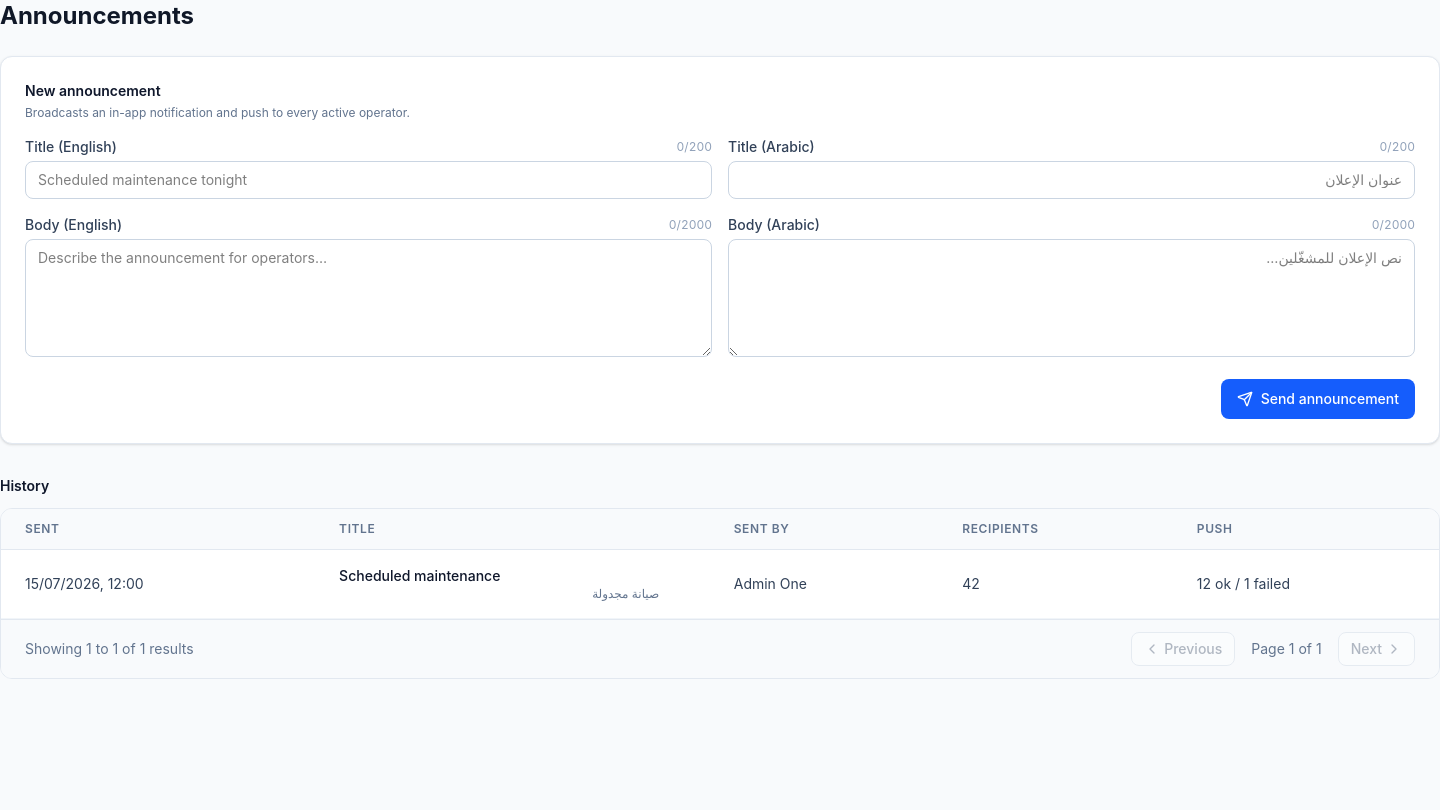
Scenario: AnnouncementsPage › sends a valid announcement: POSTs the 4 fields and toasts the recipient count
The image size is (1440, 810).
Check: the text "Scheduled maintenance" is shown, box [339,567,500,584]
Type "Hello" into the field labelled "Title (English)".
click(368, 180); type("Hello")  # box [25,161,712,199]
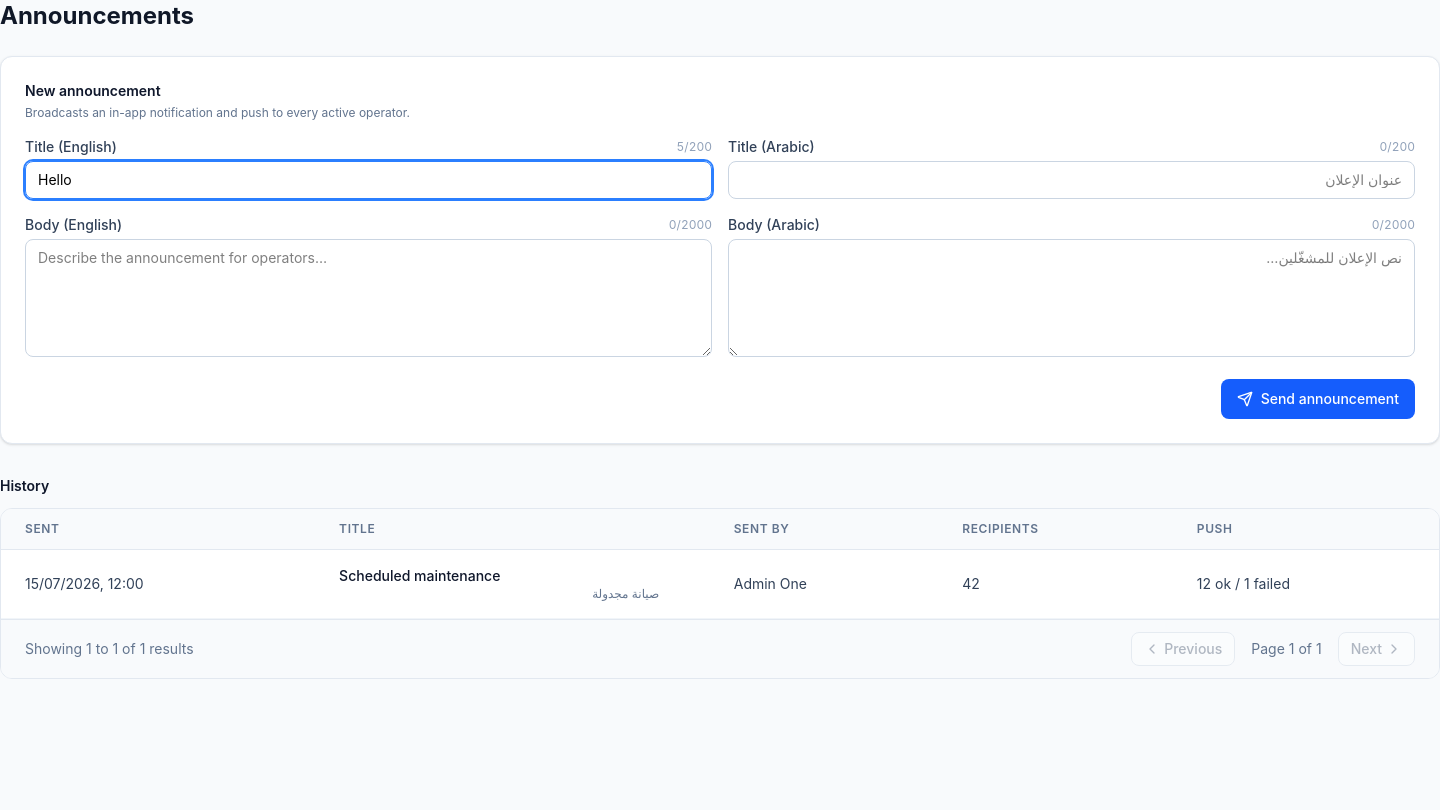
Type "مرحبا" into the field labelled "Title (Arabic)".
click(1072, 180); type("مرحبا")  # box [728,161,1415,199]
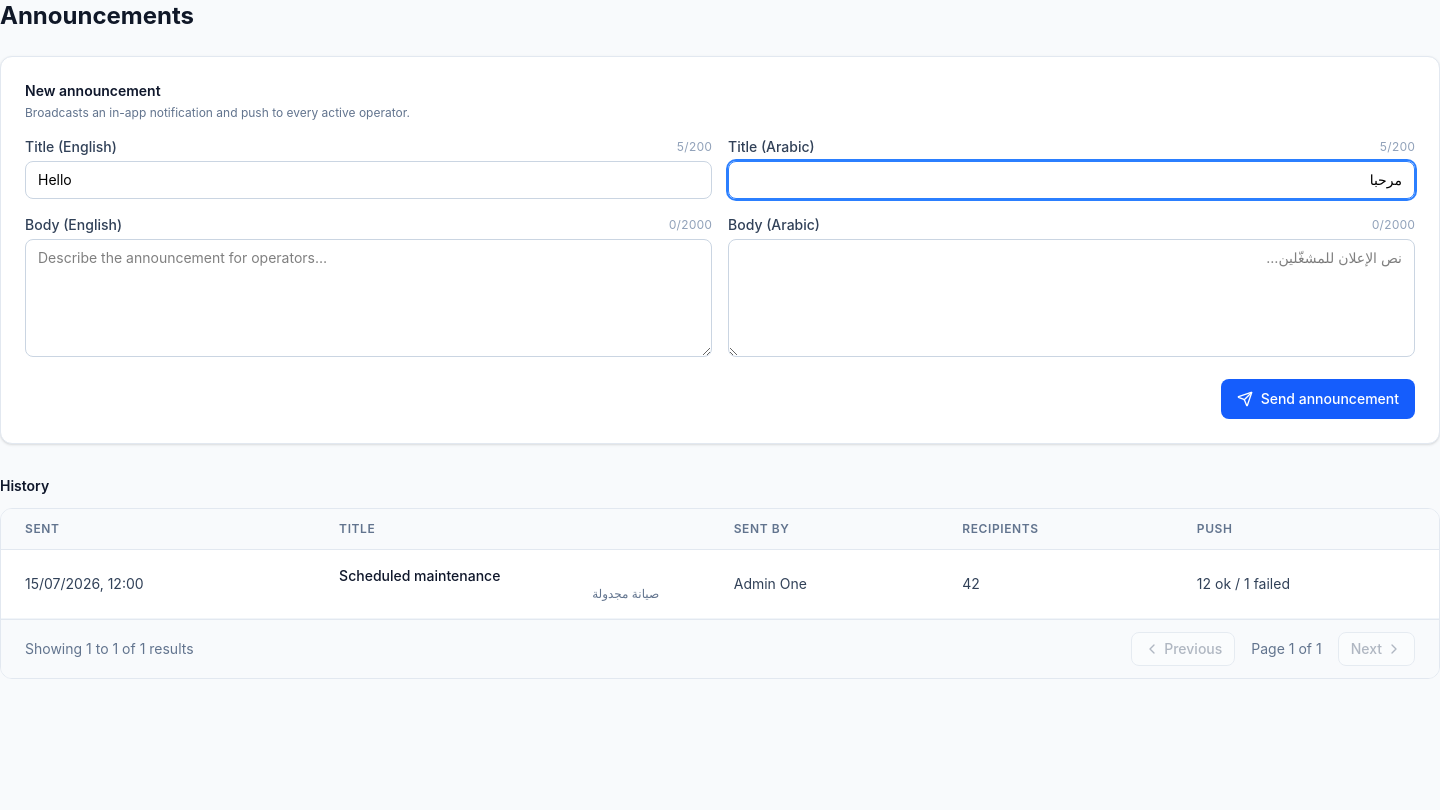
Type "Body text" into the text box labelled "Body (English)".
click(368, 298); type("Body text")  # box [25,239,712,357]
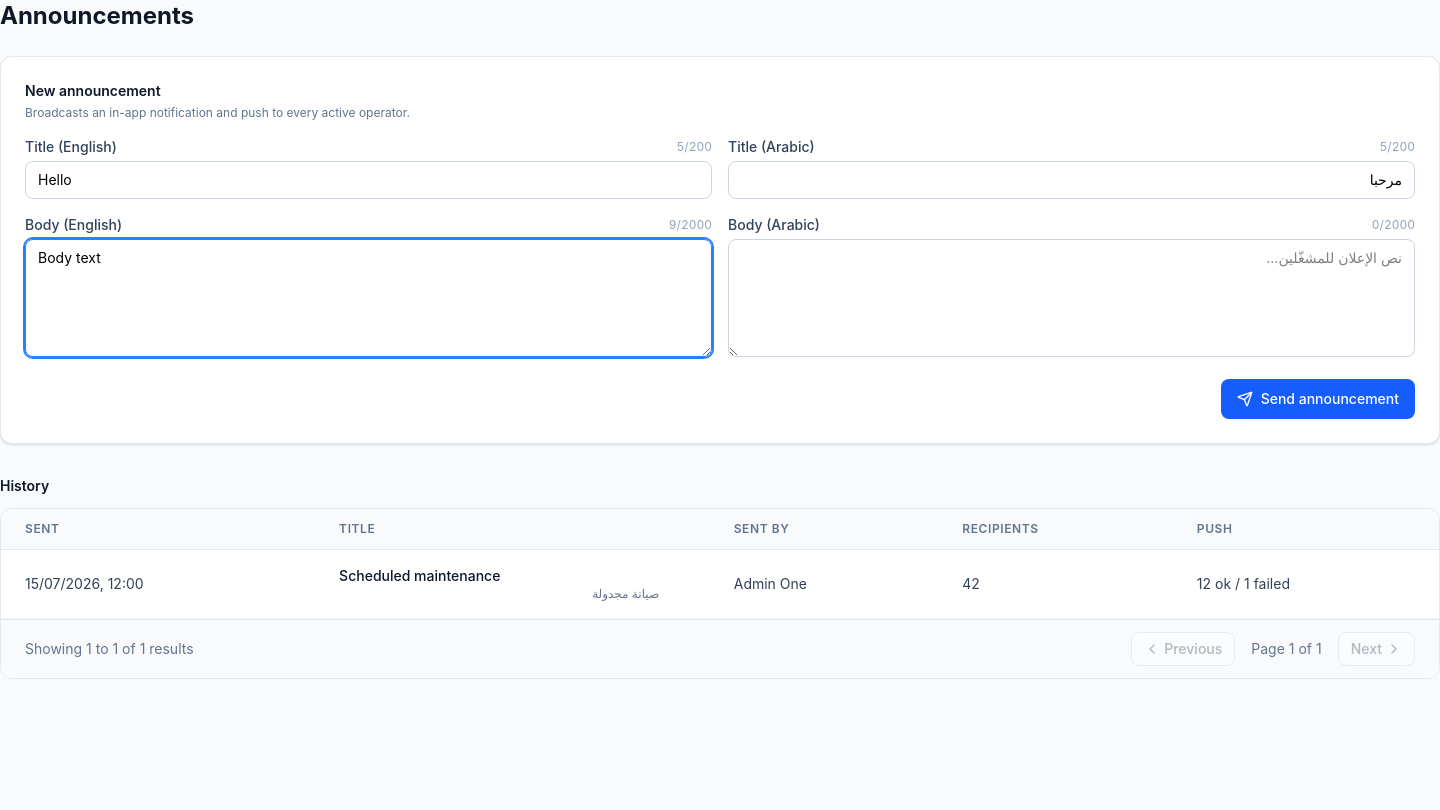
Type "نص الإعلان" into the text box labelled "Body (Arabic)".
click(1072, 298); type("نص الإعلان")  # box [728,239,1415,357]
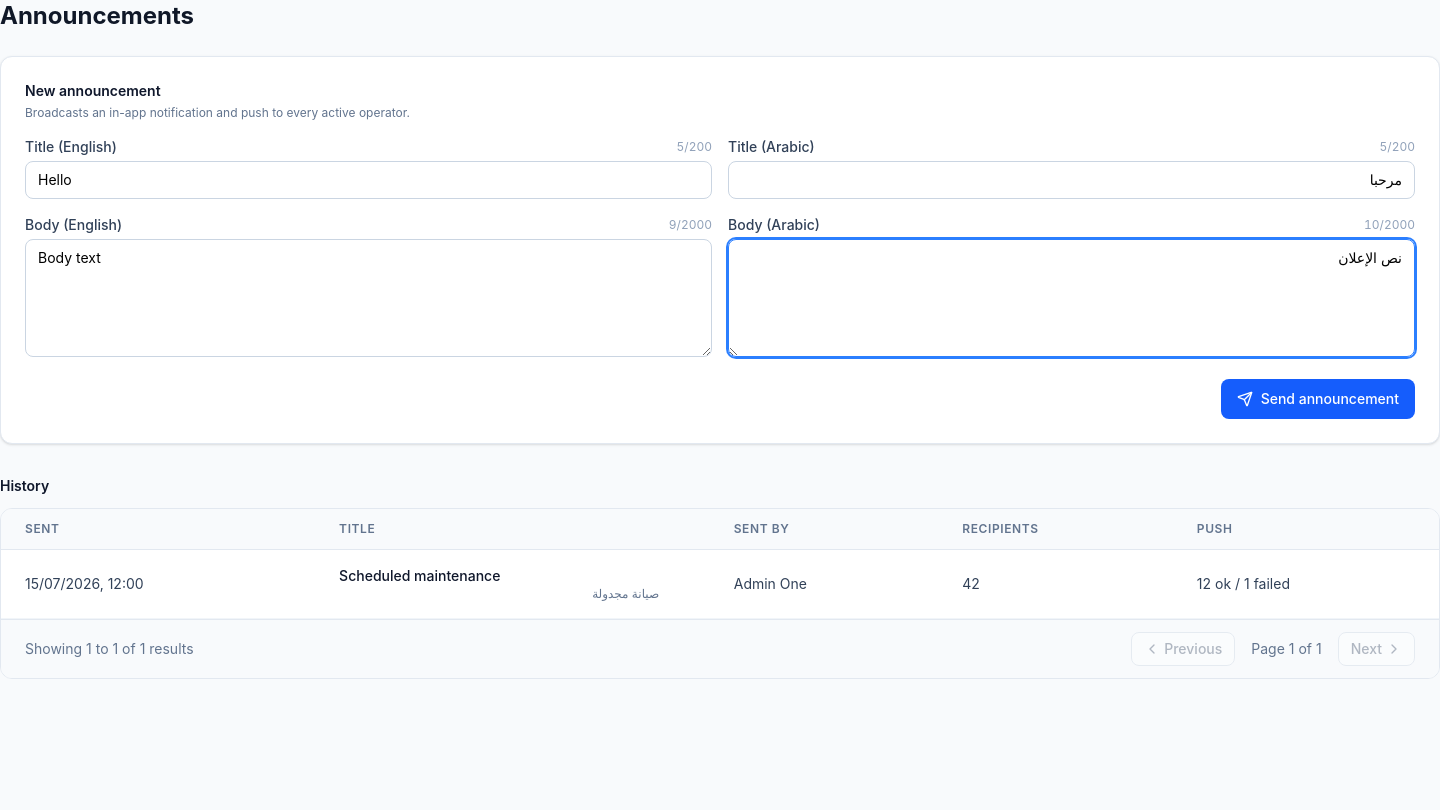
Click the button "Send announcement".
click(1318, 399)  # box [1221,379,1415,419]
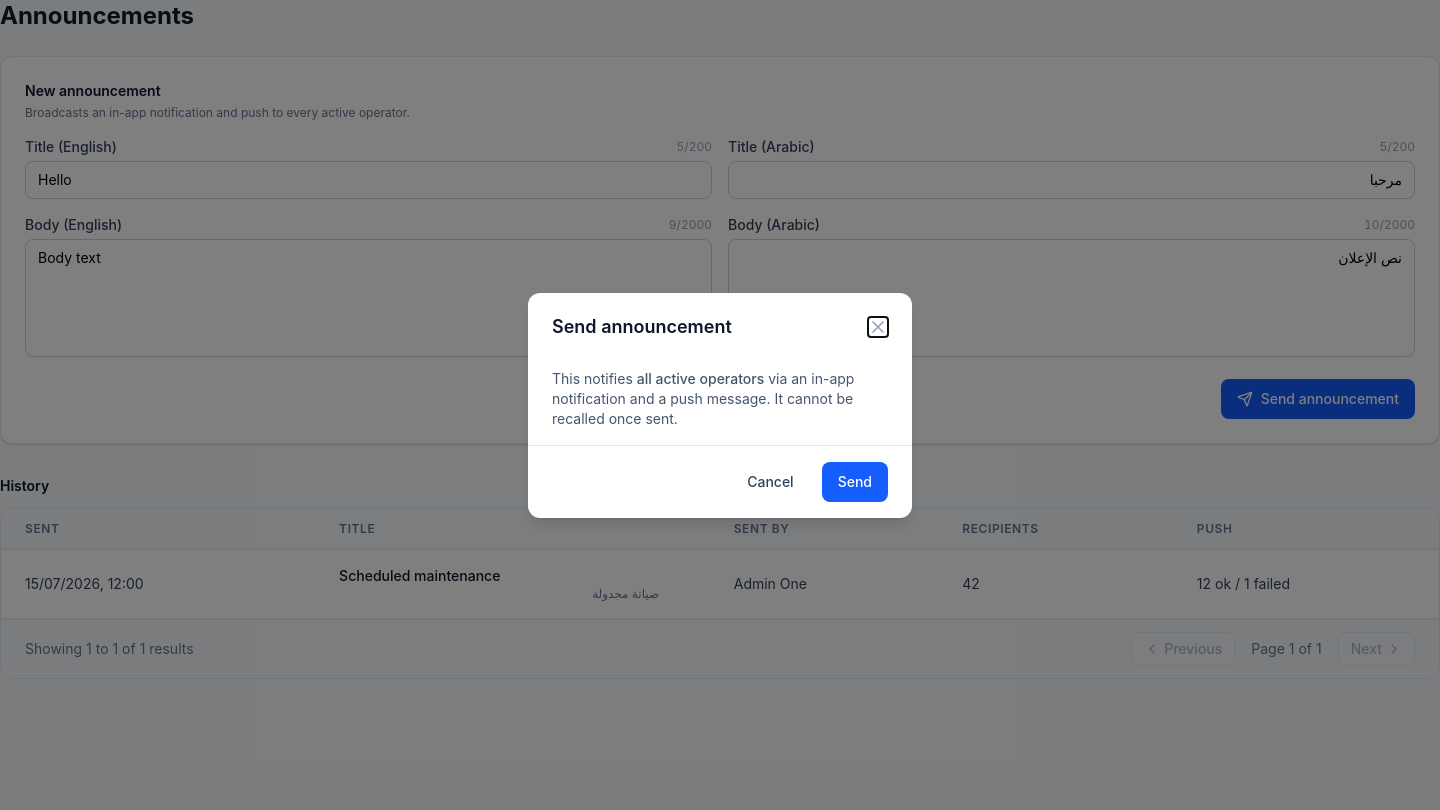
Click the button "Send".
click(855, 482)  # box [822,462,888,502]
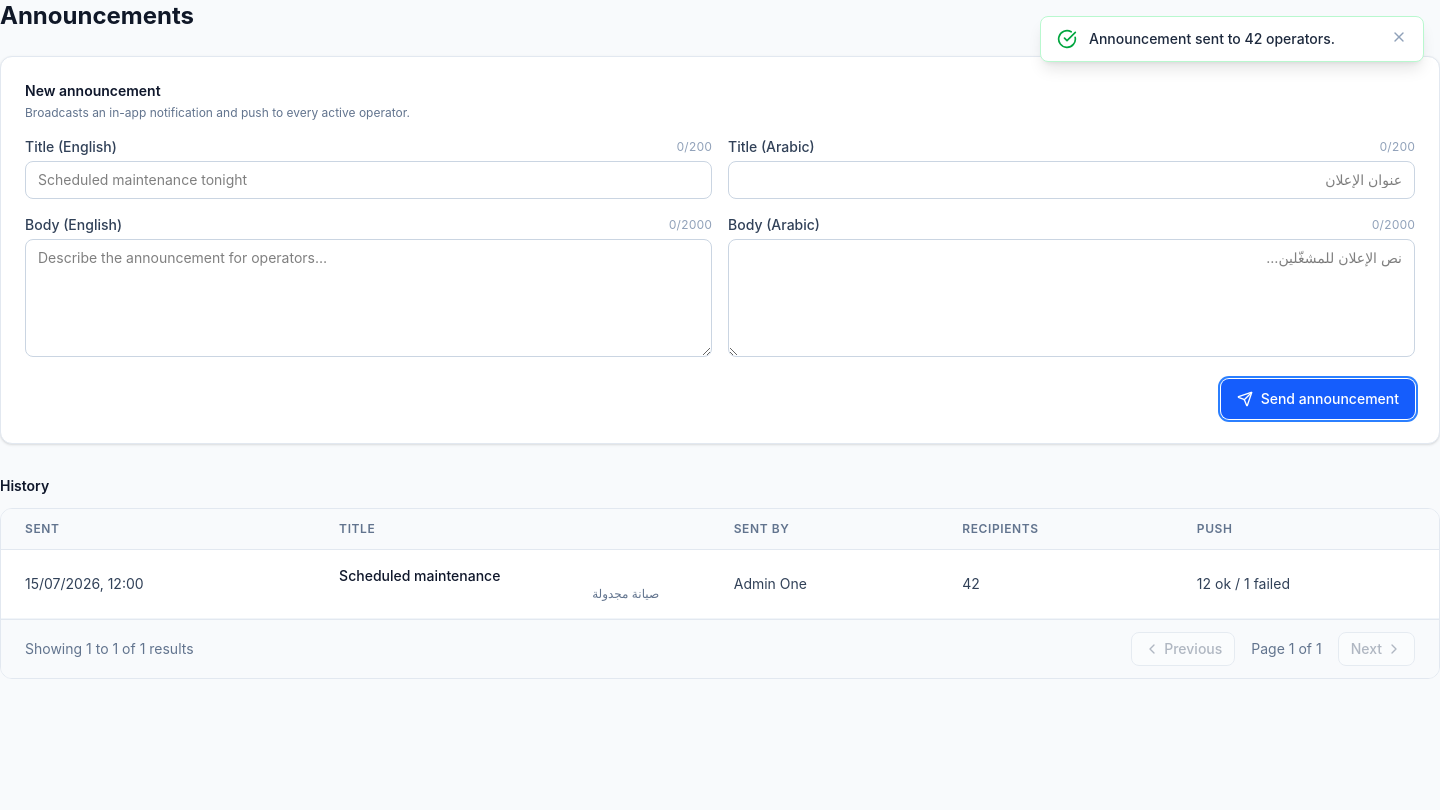
Check: the text "Announcement sent to 42 operators." is shown, box [1089,30,1335,47]
